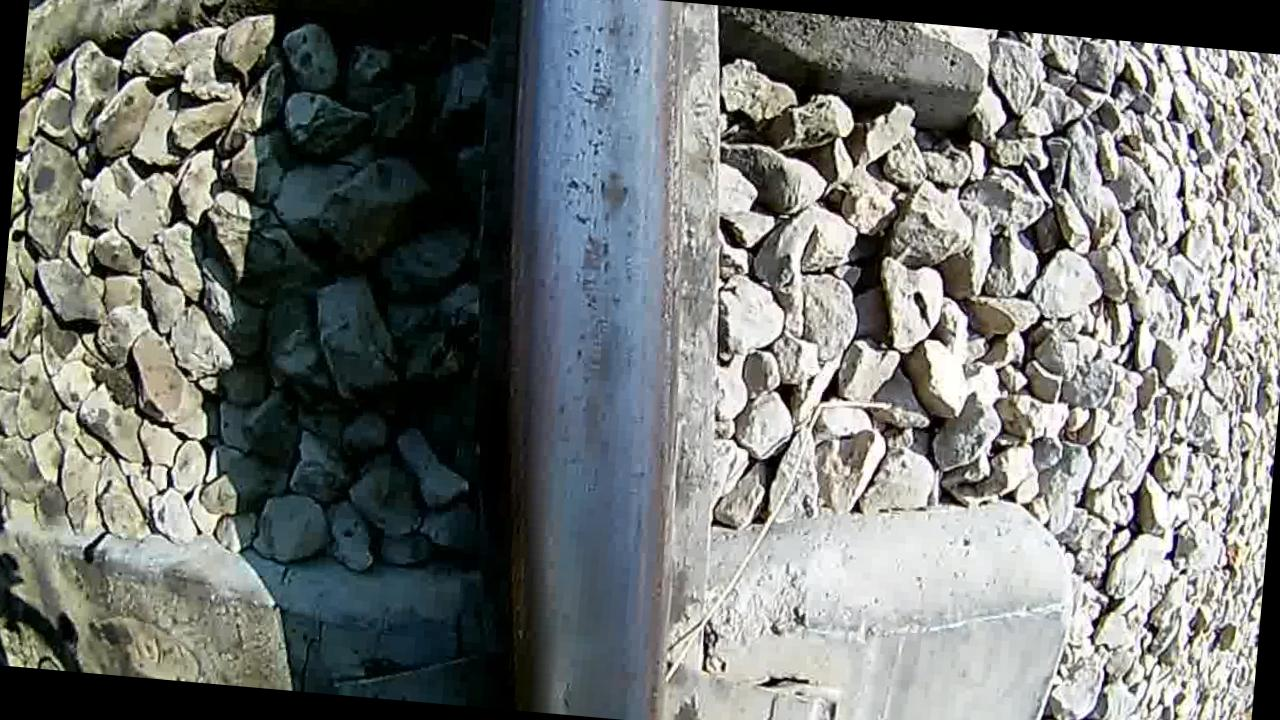crack: (463, 0, 715, 720)
